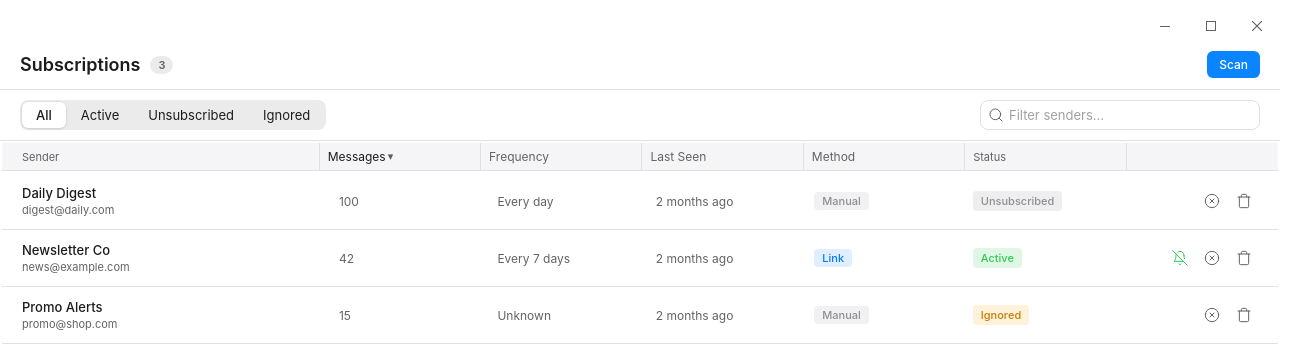
Test case: Subscriptions.svelte › filter tabs filter by status
Expected: the text "Newsletter Co" is shown, x1=22 y1=242 x2=110 y2=258
Note: Click the "Active" filter tab
Click the button "Active": (100,115) x1=67 y1=102 x2=133 y2=128
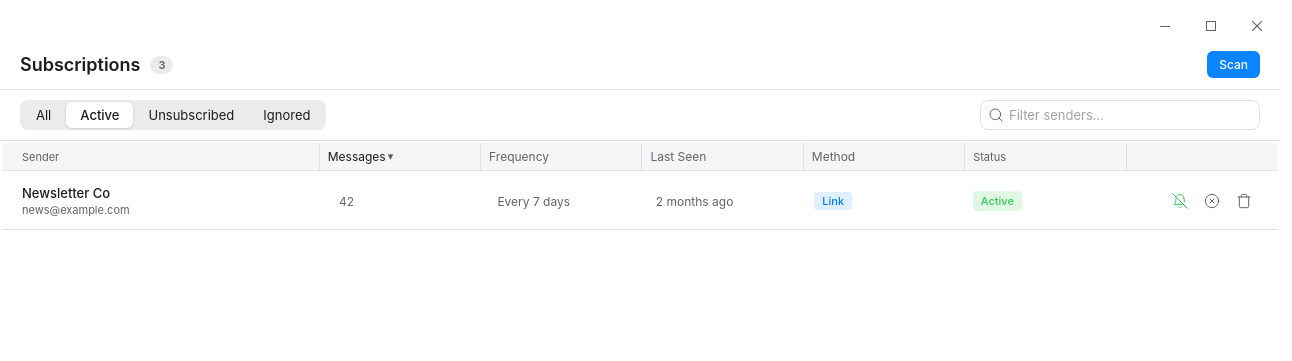
Expected: the text "Newsletter Co" is shown, x1=22 y1=185 x2=110 y2=201
Expected: the text "Daily Digest" is gone
